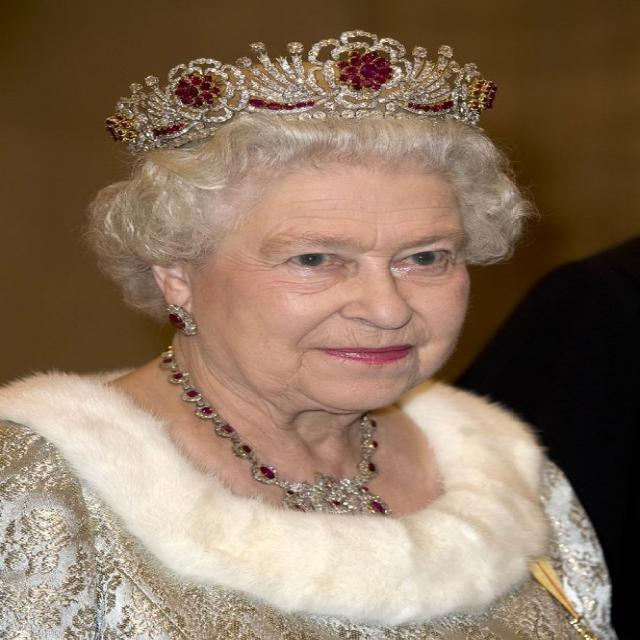Earring: (154, 296, 208, 352)
